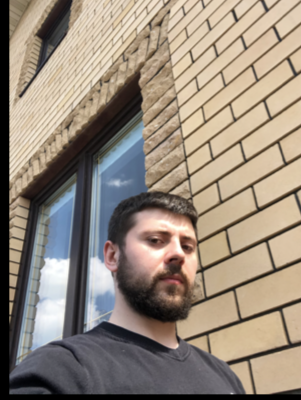without_mask: (132, 221, 199, 322)
